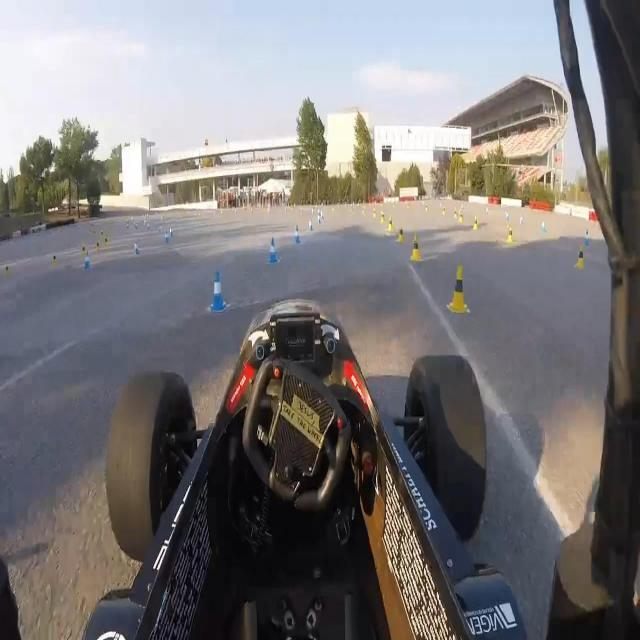blue_cone: (210, 270, 226, 313), (268, 237, 276, 264), (84, 248, 90, 273), (294, 224, 300, 243), (134, 237, 139, 258), (585, 228, 590, 248), (505, 210, 510, 228), (164, 227, 169, 244), (519, 213, 524, 229), (168, 225, 173, 240), (317, 212, 322, 226), (541, 220, 545, 237), (308, 218, 312, 231)
yellow_cone: (451, 266, 466, 312), (575, 239, 585, 275), (505, 222, 514, 247), (4, 261, 11, 284), (412, 234, 418, 260), (81, 239, 87, 263), (51, 248, 57, 271), (95, 236, 101, 258), (398, 224, 404, 244), (473, 214, 479, 234), (388, 217, 394, 233), (459, 207, 463, 224), (372, 207, 377, 220), (454, 206, 458, 222), (381, 210, 385, 222), (442, 205, 445, 216)
